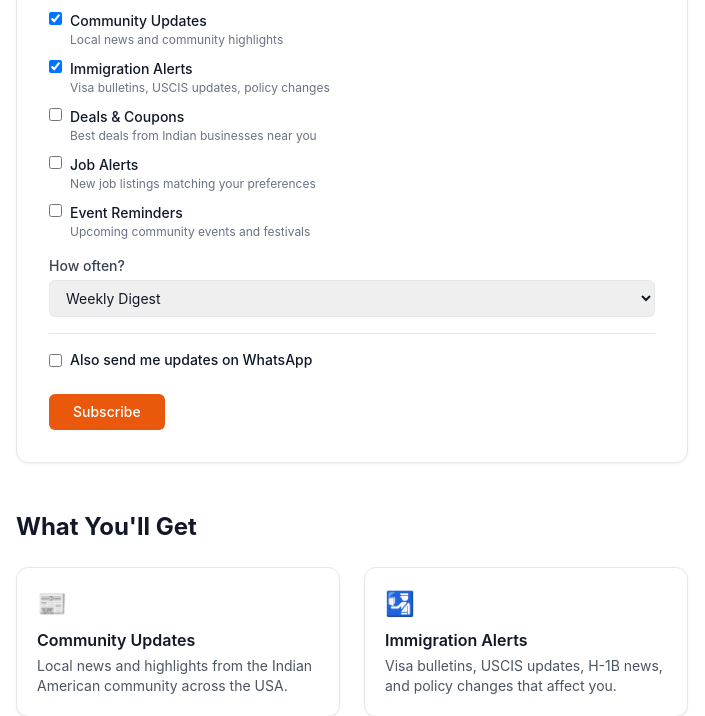
Test: SubscribePage › WhatsApp opt-in › should show WhatsApp number input when opted in
(page scrolled)
Click the checkbox labelled "Also send me updates on WhatsApp" at point(56, 360), box x1=49 y1=354 x2=62 y2=366
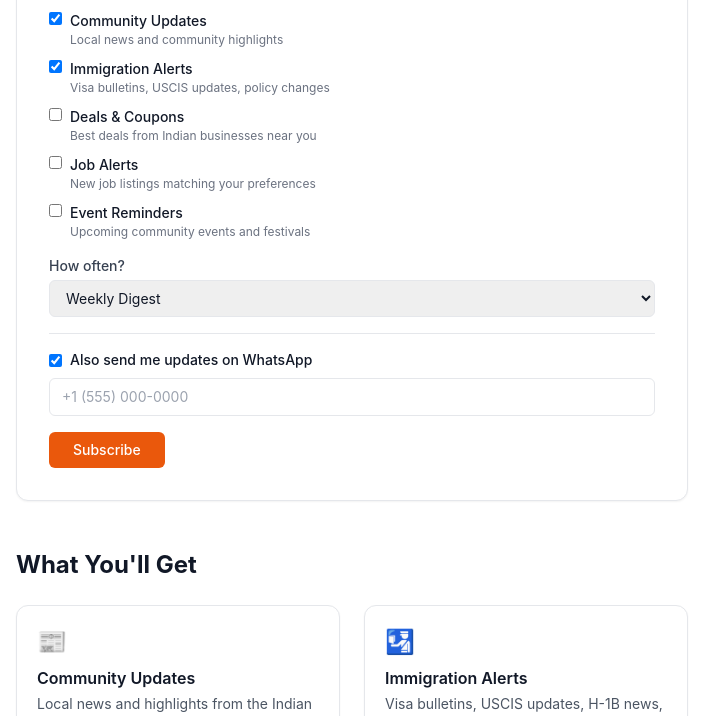
Check: the field with placeholder "+1 (555) 000-0000" is shown, box x1=49 y1=378 x2=655 y2=416
